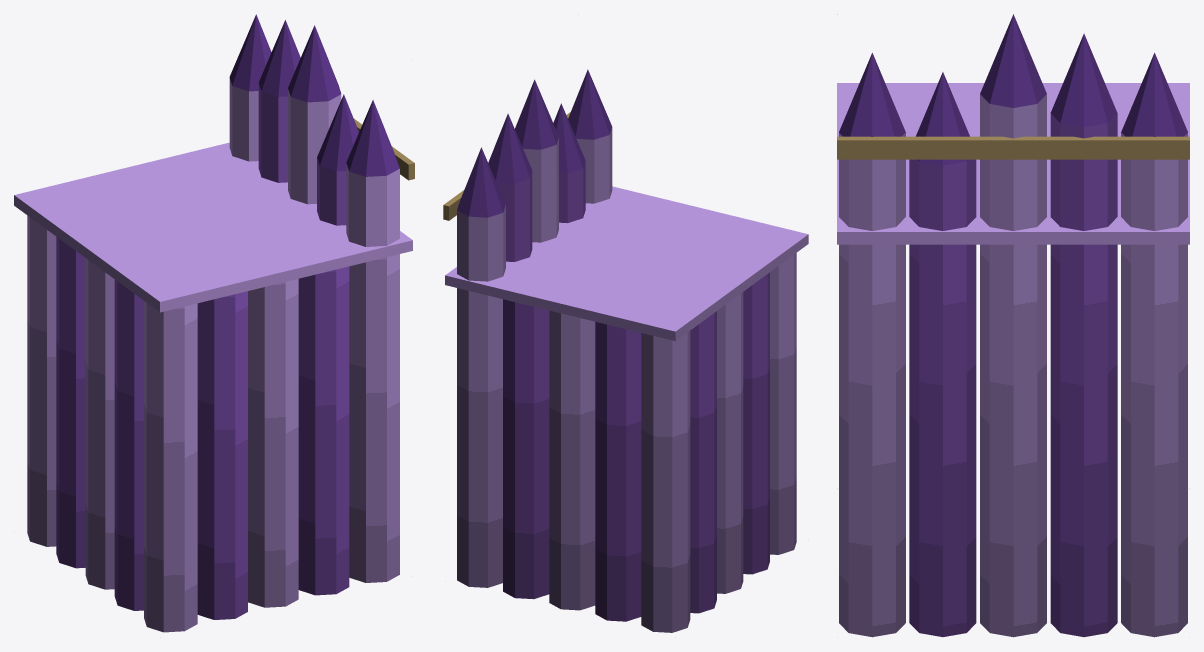
The model's file is perimeter_wall_crystal_f13.glb.
3 renders of one model, left to right at view 1: azimuth 30°, elevation 25°; view 2: azimuth 150°, elevation 25°; view 3: azimuth 270°, elevation 25°, orthographic. The views are drawn at different scales.
Bounding box in the file's own units: 2.01 × 3.9 × 2.
1 material, 1 textured.
